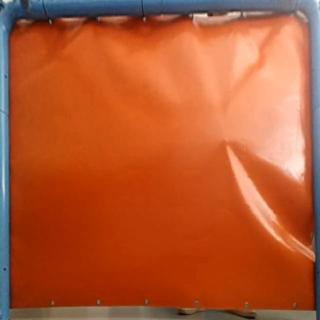Hit-hRxx: (220, 133, 230, 146)
